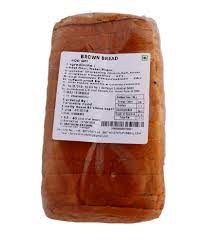bread: (33, 9, 176, 233)
